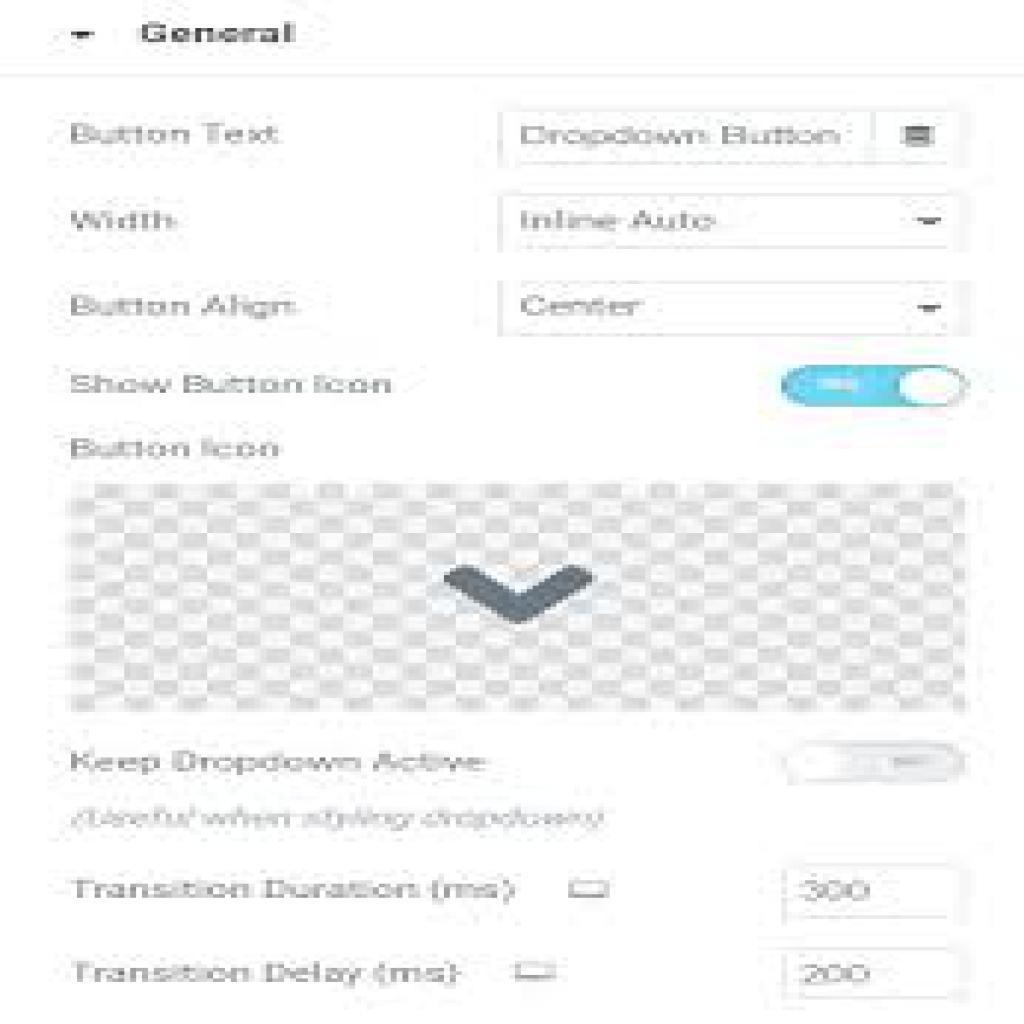dropdown: (497, 193, 977, 248), (500, 283, 986, 332)
icon: (438, 555, 602, 632), (898, 124, 939, 156)
input: (505, 102, 874, 165), (784, 862, 962, 919), (785, 949, 966, 1001)
switch: (768, 734, 967, 793), (785, 356, 967, 416)
